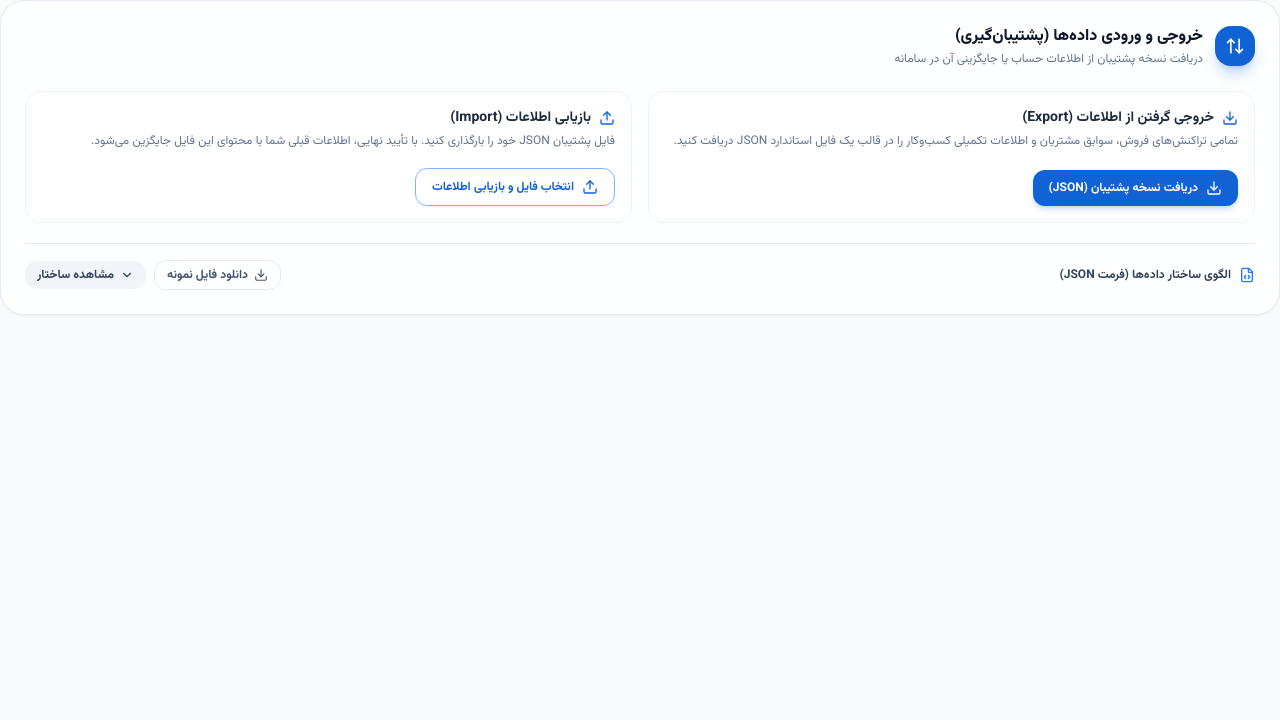
[component] DataTransferCard › toggles sample data structure preview
Click the button "مشاهده ساختار" at (86,274), box 25,260 -> 146,288
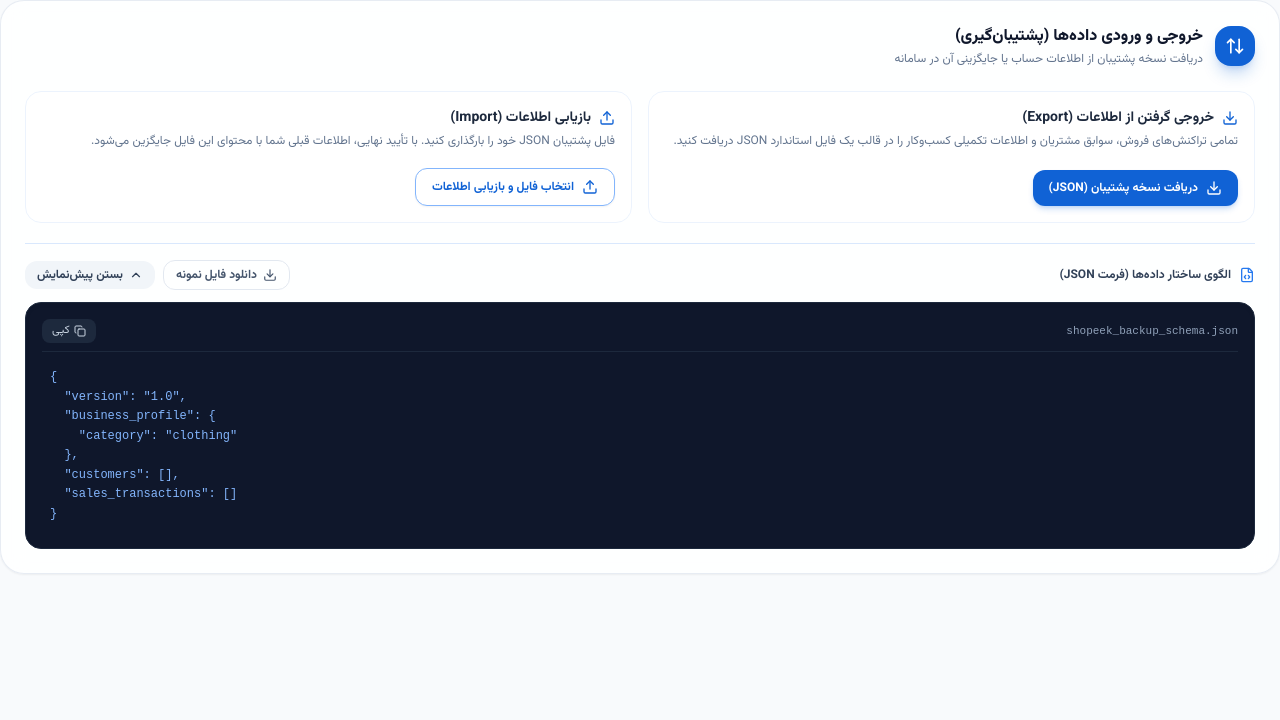
expect the text "shopeek_backup_schema.json" is shown: met, box 1066,322 -> 1238,339
expect the text "بستن پیش‌نمایش" is shown: met, box 37,266 -> 123,282
Toggle off
Click the button "بستن پیش‌نمایش" at (90,274), box 25,260 -> 155,288
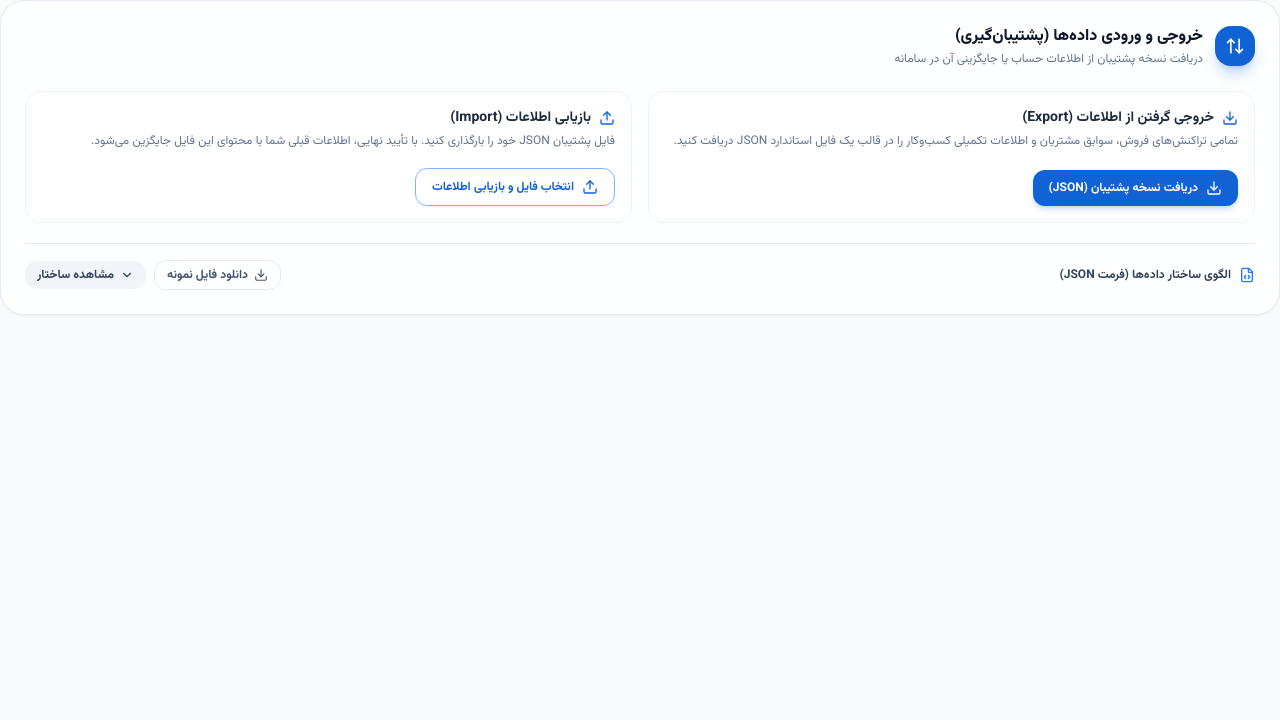
expect the text "shopeek_backup_schema.json" is gone: met
